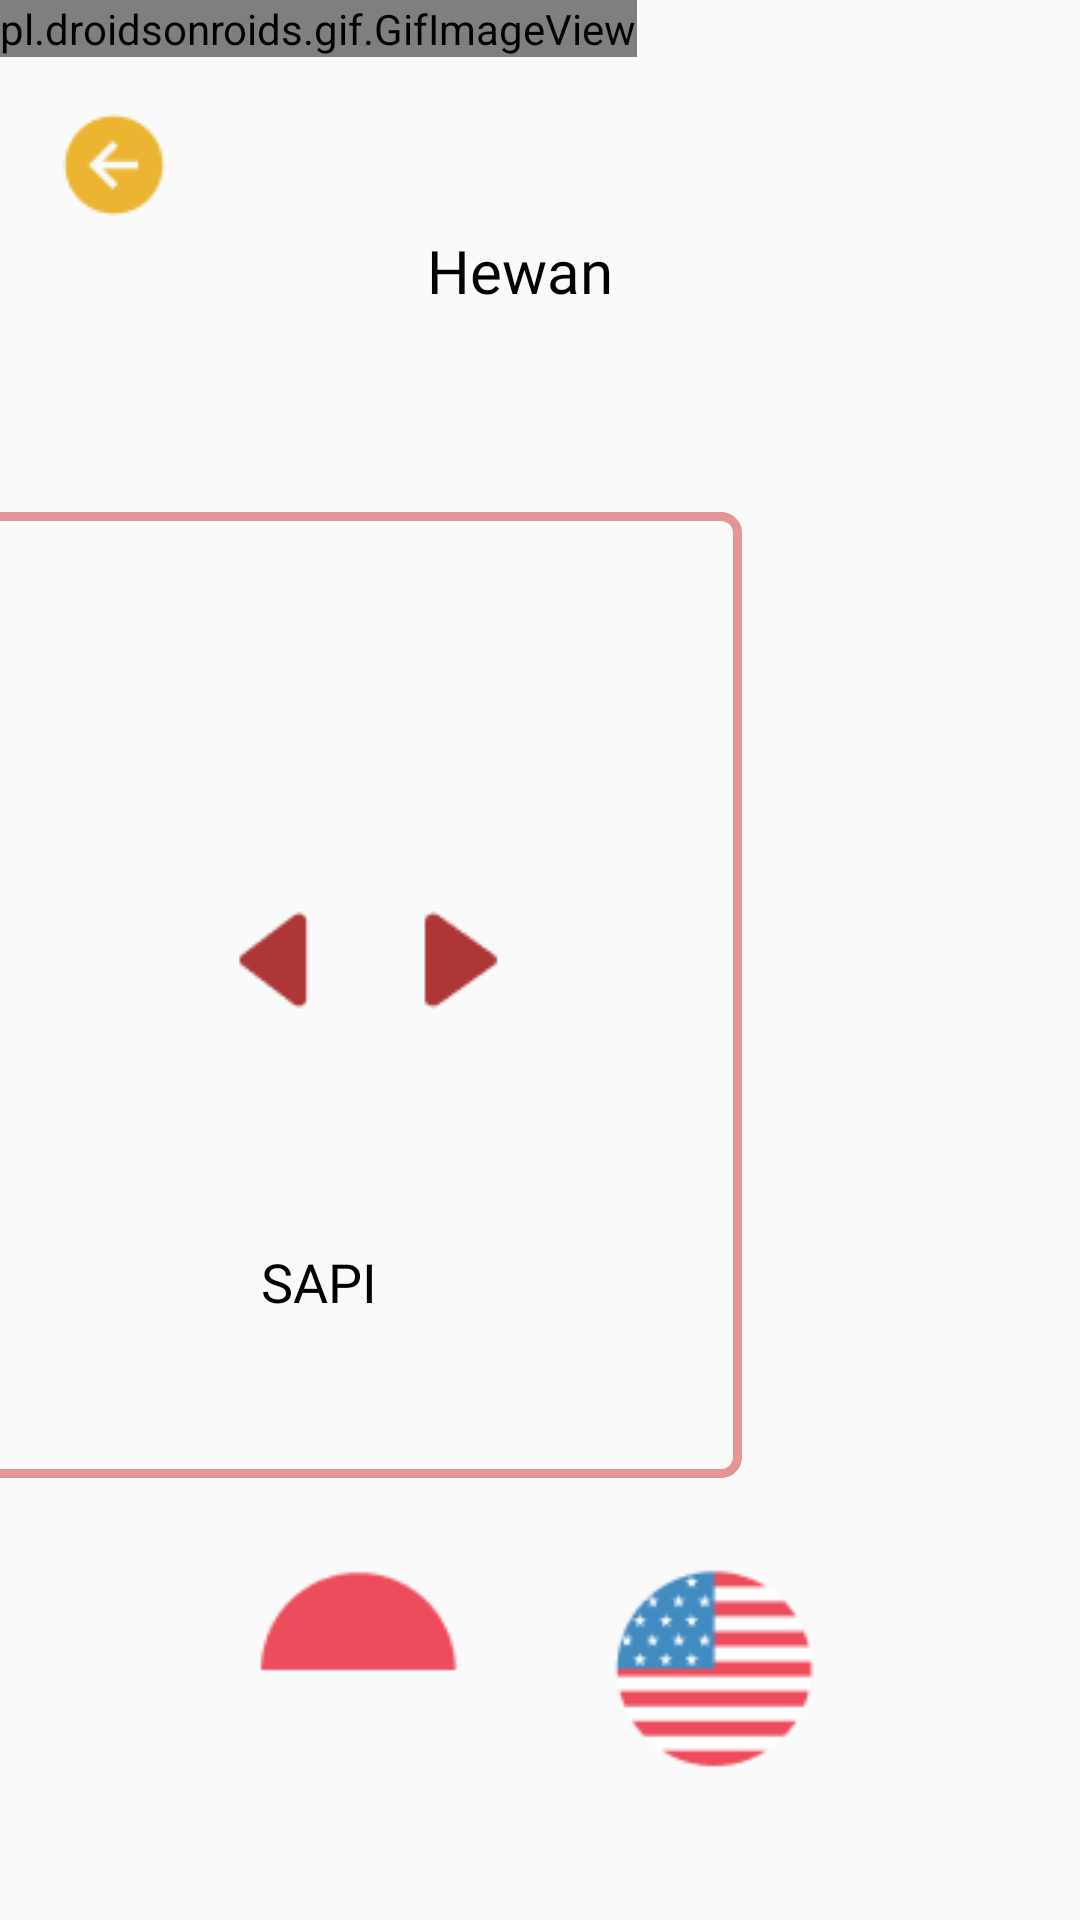

Screen size 1080w x 1920h. Icon name, then its center in pixels as (x,y):
back: (273,959)
inggris: (714,1668)
keluar: (114,165)
next: (461,959)
